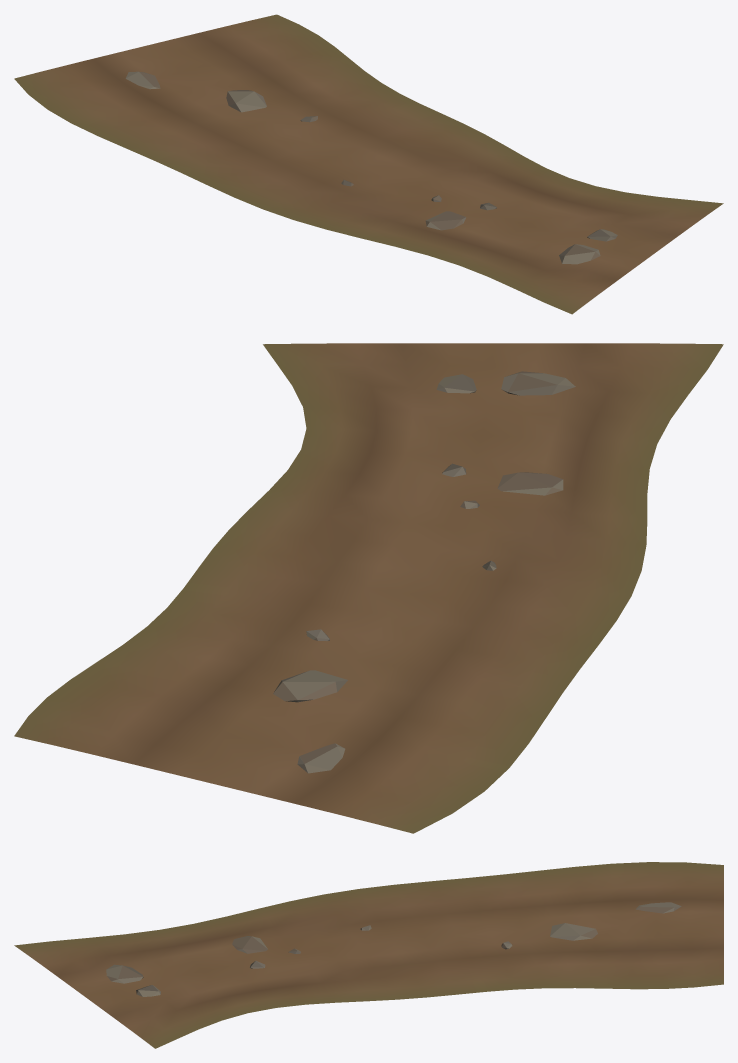
Rendered from path_curve30.glb.
3 renders of one model, top to bottom at view 1: azimuth 30°, elevation 25°; view 2: azimuth 150°, elevation 25°; view 3: azimuth 270°, elevation 25°, orthographic. The views are drawn at different scales.
Visible parts, largest first — view 1: orchard_path_curve30_Ground; view 2: orchard_path_curve30_Ground; view 3: orchard_path_curve30_Ground.
Part boxes in pixels (x1,y1,x2,y2): orchard_path_curve30_Ground: (14,14,723,314); orchard_path_curve30_Ground: (14,343,723,833); orchard_path_curve30_Ground: (14,862,723,1048).
Bounding box in the file's own units: 2.64 × 0.0387 × 4.24.
